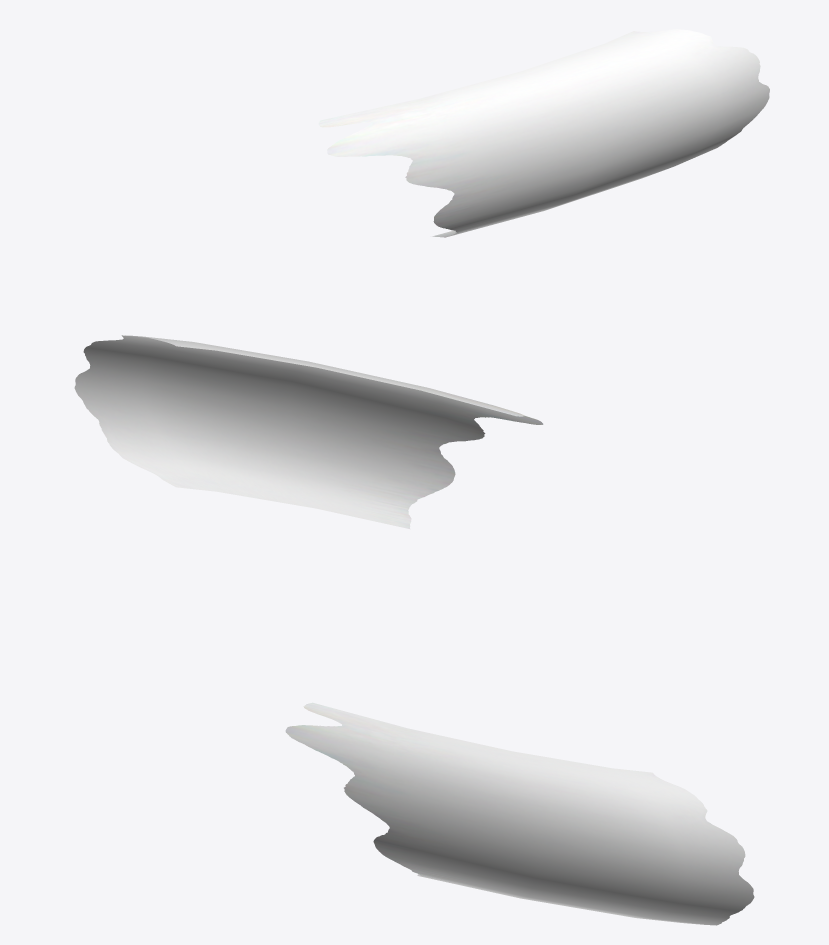
Rendered from BigSlashImpactMesh.fbx.
3 renders of one model, top to bottom at view 1: azimuth 30°, elevation 25°; view 2: azimuth 150°, elevation 25°; view 3: azimuth 330°, elevation 25°, orthographic.
Parts seen in each view (by area): view 1: BigSlashImpactMesh; view 2: BigSlashImpactMesh; view 3: BigSlashImpactMesh.
Boxes of the visible parts, x1=… form: BigSlashImpactMesh: x1=318, y1=29, x2=769, y2=237; BigSlashImpactMesh: x1=74, y1=335, x2=543, y2=529; BigSlashImpactMesh: x1=285, y1=702, x2=754, y2=925.
Size of the model in its own units: 5.94 by 1 by 0.6259.
